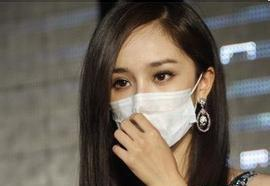OK: (112, 58, 204, 146)
